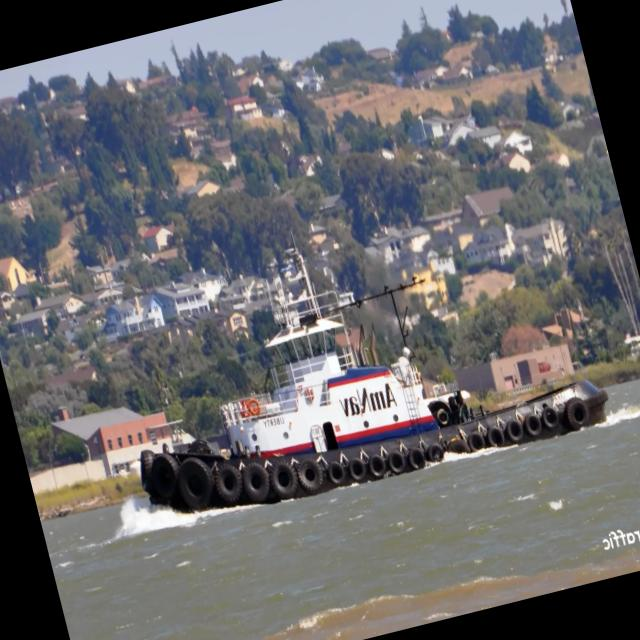Tug: (140, 247, 607, 510)
